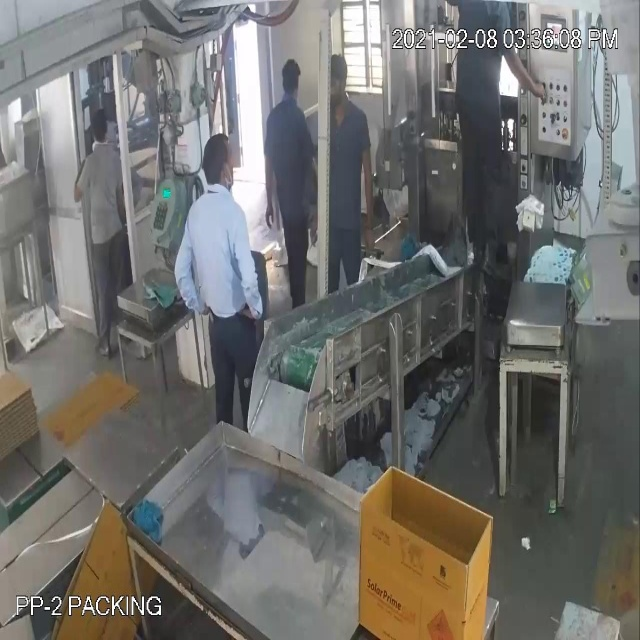Sin_guantes: (230, 215, 272, 336), (495, 37, 558, 115), (356, 137, 388, 259), (171, 224, 205, 316), (264, 140, 286, 234)
